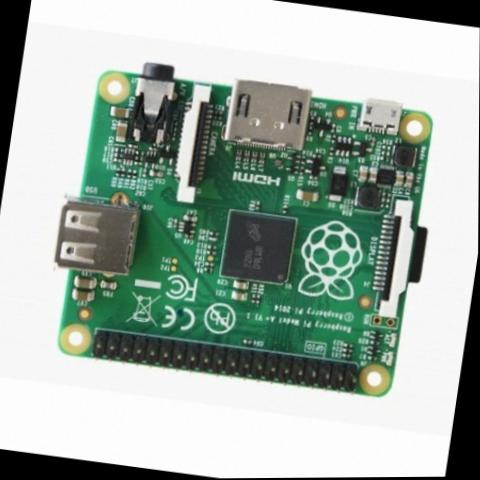Raspberry-Pi-1-Model-A-: (26, 27, 462, 425)
